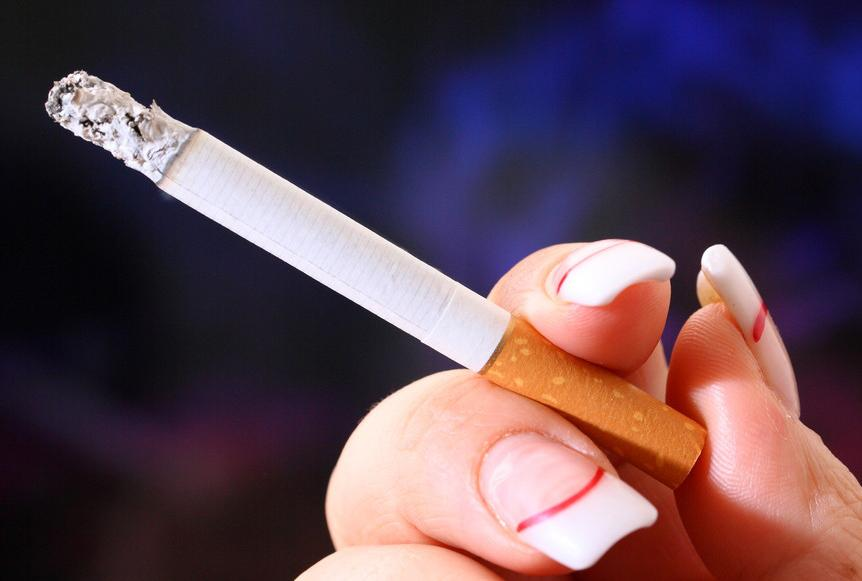smoke: (44, 65, 711, 493)
